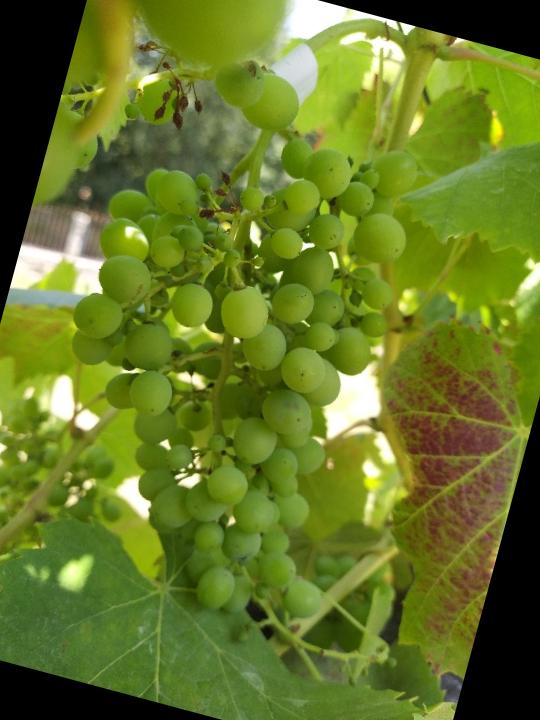grape: (2, 76, 441, 651)
